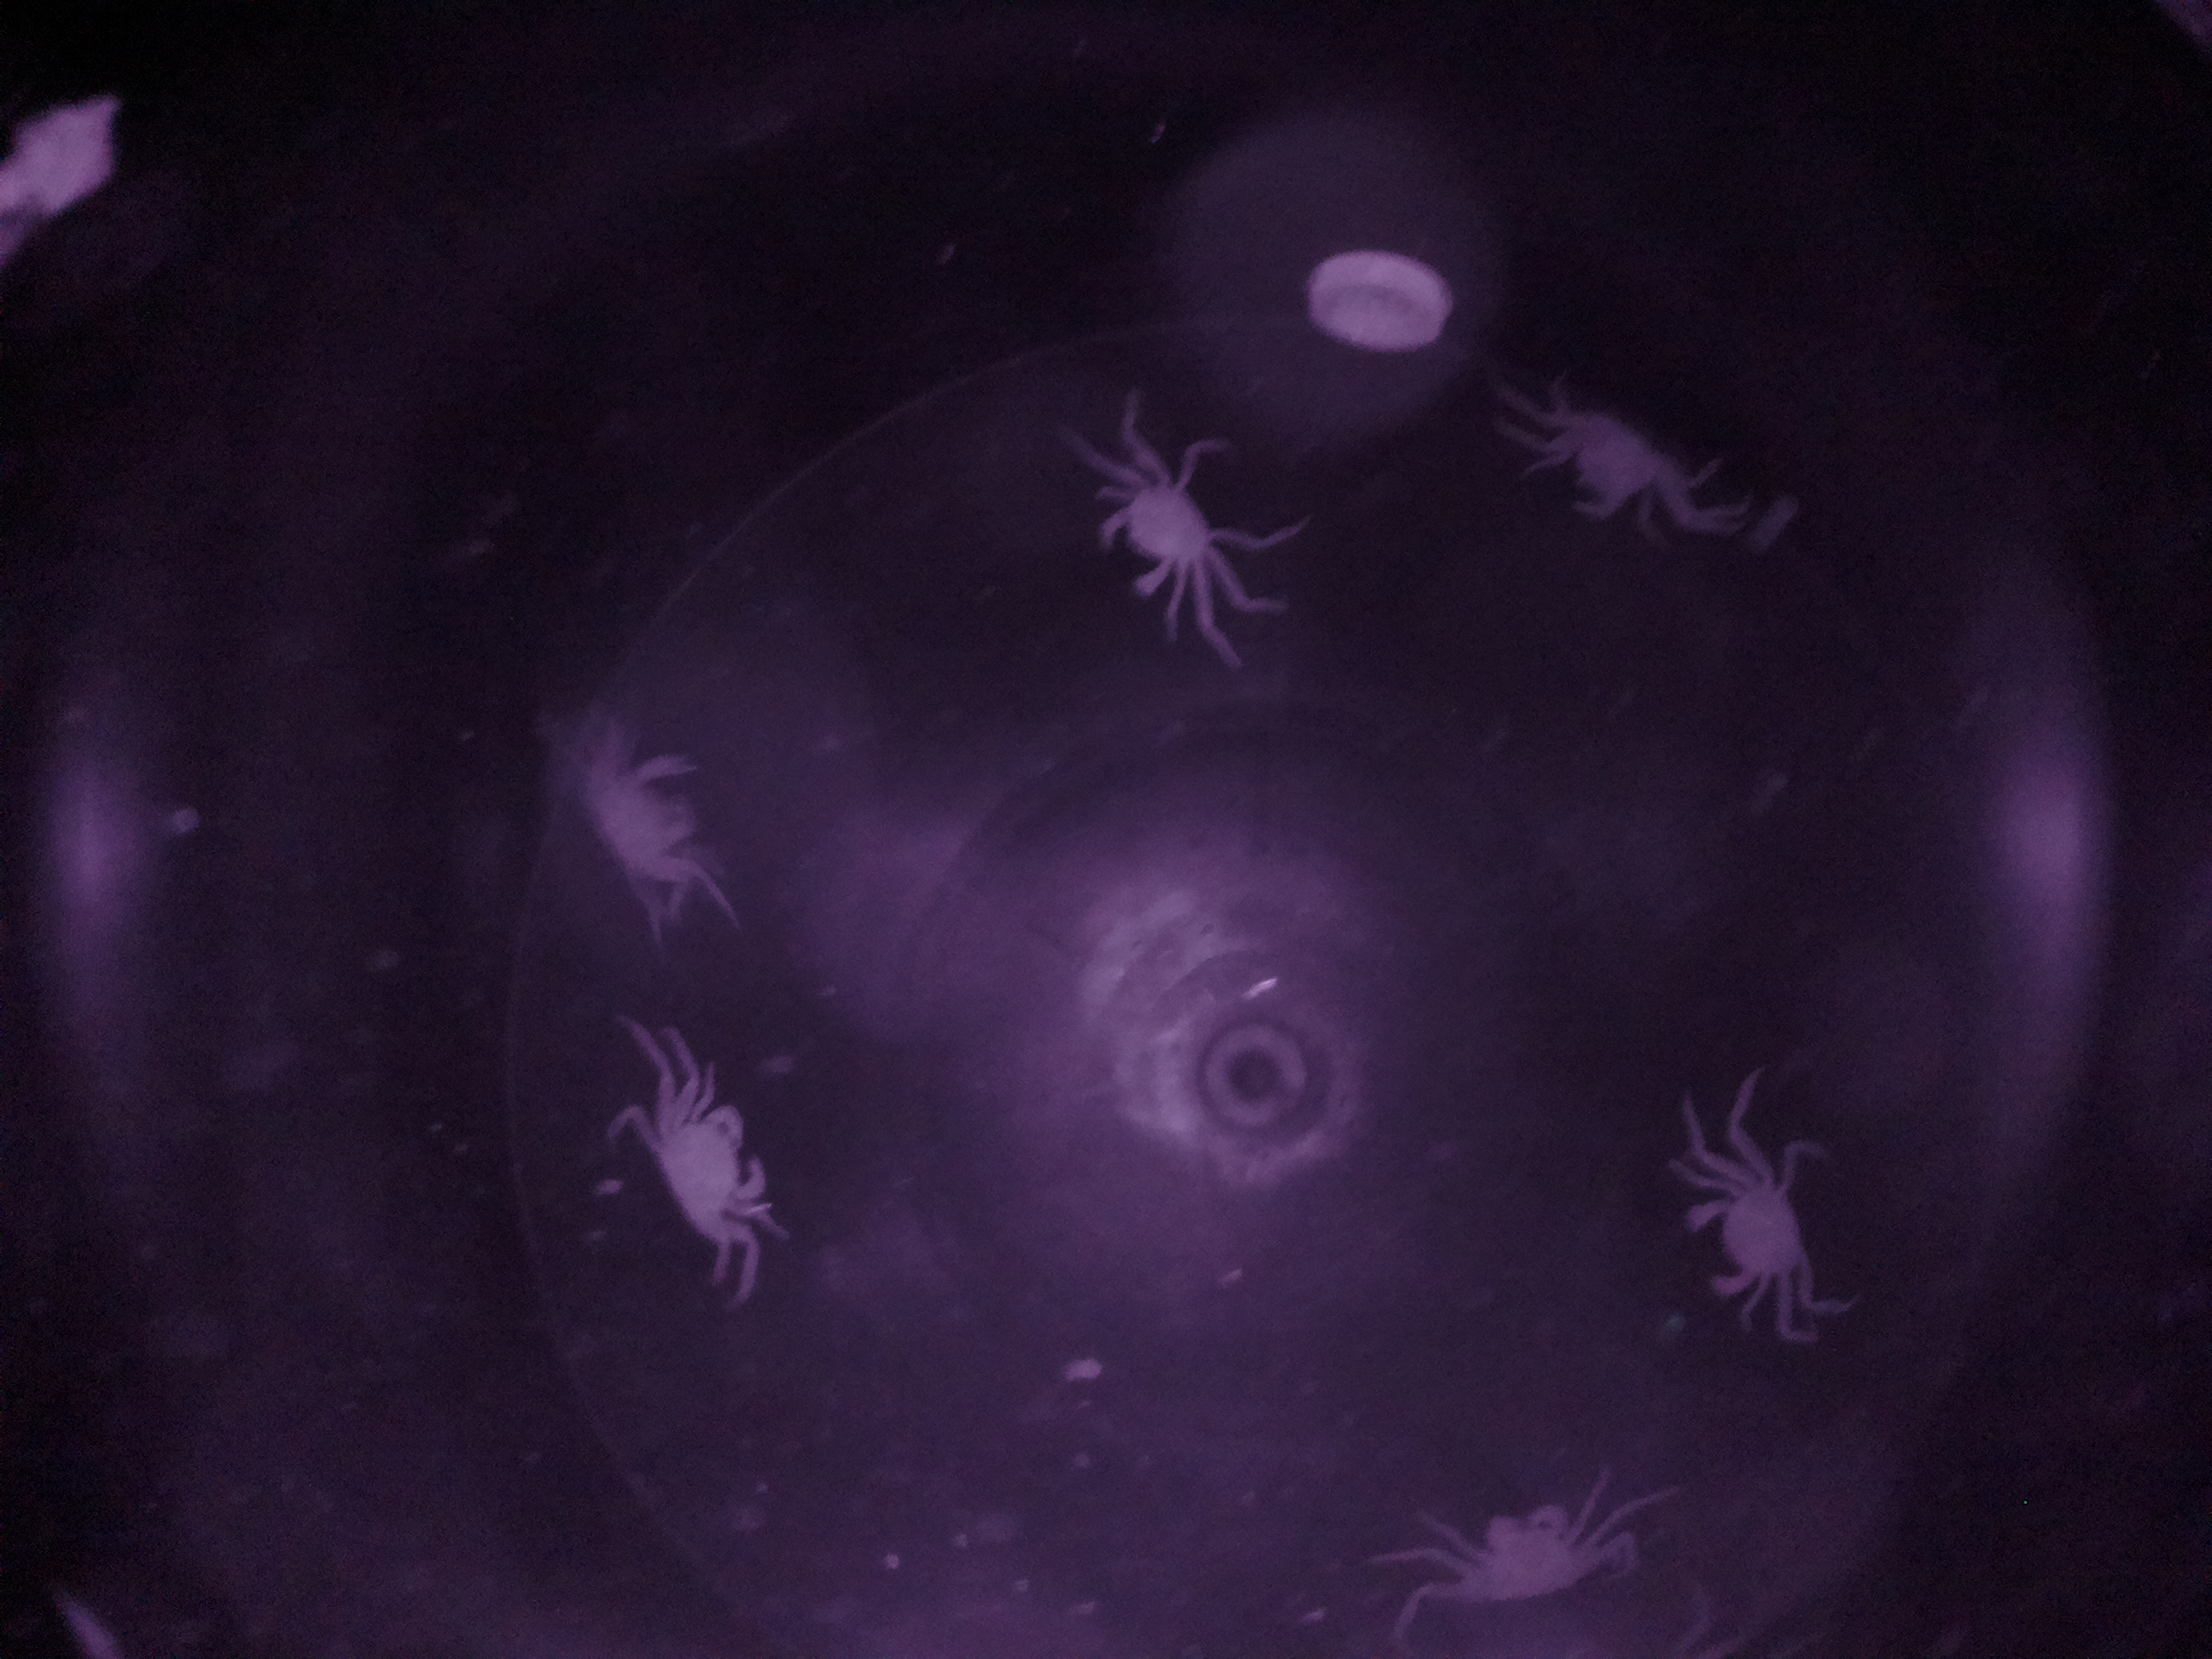Crab: (618, 1051, 782, 1272), (1656, 1138, 1836, 1338), (1085, 434, 1245, 638), (1432, 1474, 1622, 1621)
